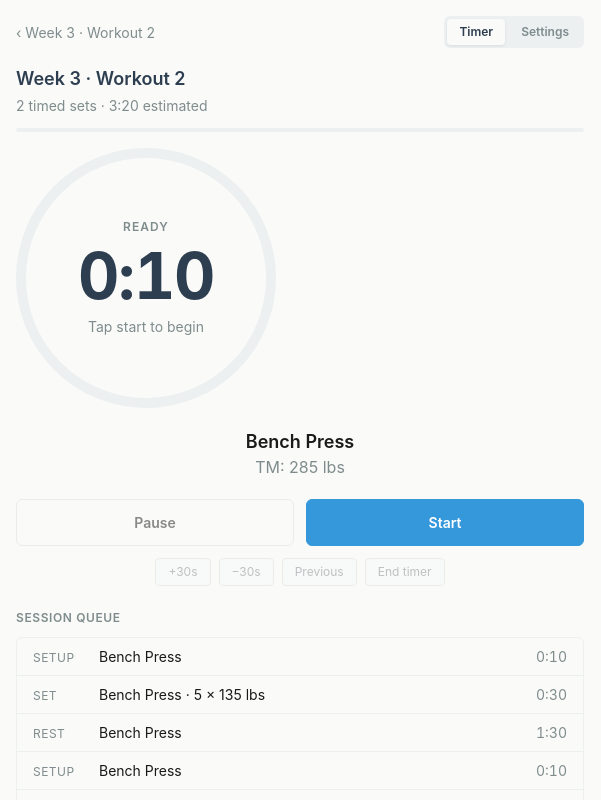
Test: WorkoutTimerView › the Settings tab › renders the accessory card with its own accessible names
Click the tab "Settings" at (545, 32), box [509,19,581,45]
(page scrolled)
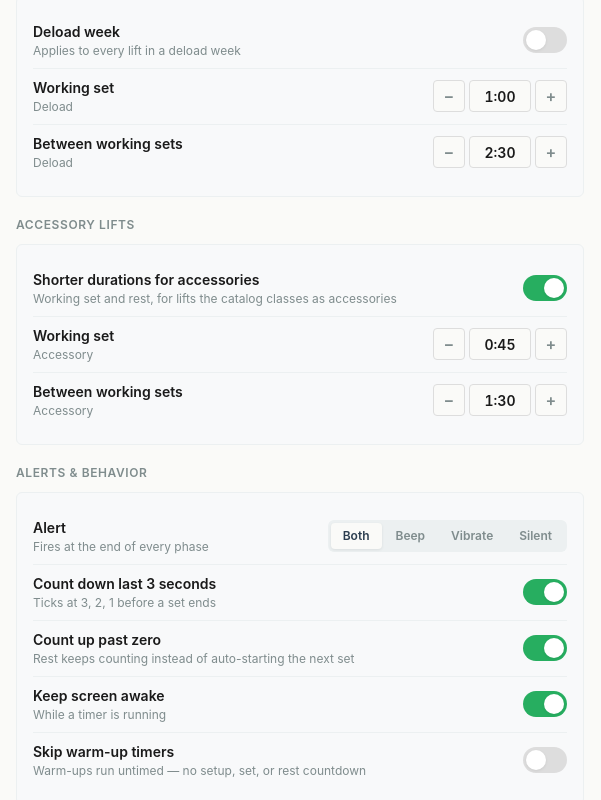
Expected: the field named "Working set (Deload)" is shown, [469,80,531,112]
Expected: the field named "Working set (Accessory)" is shown, [469,328,531,360]
Expected: the field named "Between working sets (Accessory)" is shown, [469,384,531,416]
